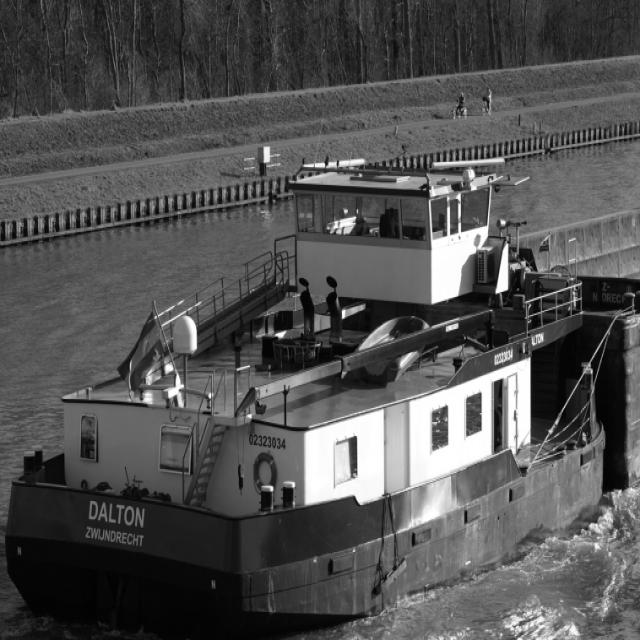tugboat: (1, 158, 613, 640)
